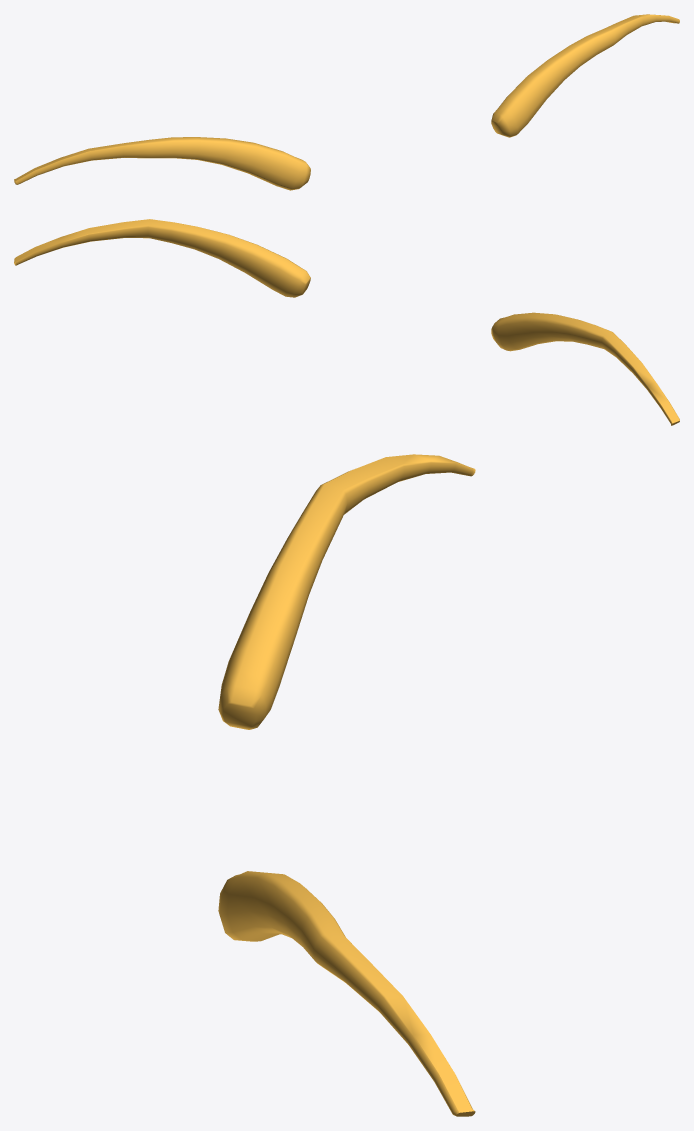
The model's file is Eyebrows_29_05.fbx.
3 views of the same model, one above another, from view 1: azimuth 30°, elevation 25°; view 2: azimuth 150°, elevation 25°; view 3: azimuth 270°, elevation 25° (orthographic). The views are drawn at different scales.
Visible parts, largest first — view 1: Eyebrows_29_05; view 2: Eyebrows_29_05; view 3: Eyebrows_29_05.
Part boxes in pixels (x1,y1,x2,y2): Eyebrows_29_05: (14, 14, 679, 190); Eyebrows_29_05: (14, 219, 679, 425); Eyebrows_29_05: (218, 454, 475, 1116).
Bounding box in the file's own units: 19.88 × 1.77 × 3.33.
